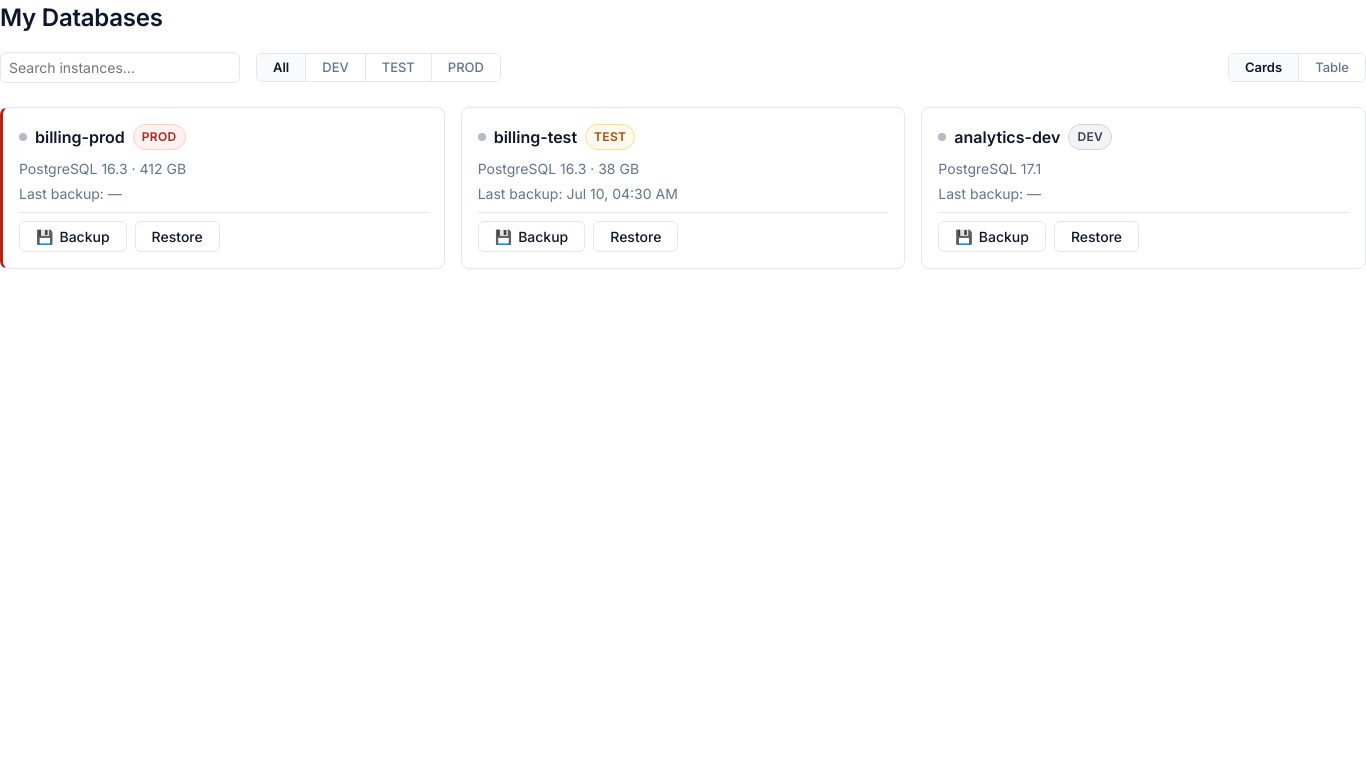
Test: drawer cancel closes without posting
Expected: the text "billing-test" is shown, [494,125,577,149]
Click the button "💾 Backup" below "Jul 10, 04:30 AM". click: coordinates (532, 236)
box: [478,221,585,252]
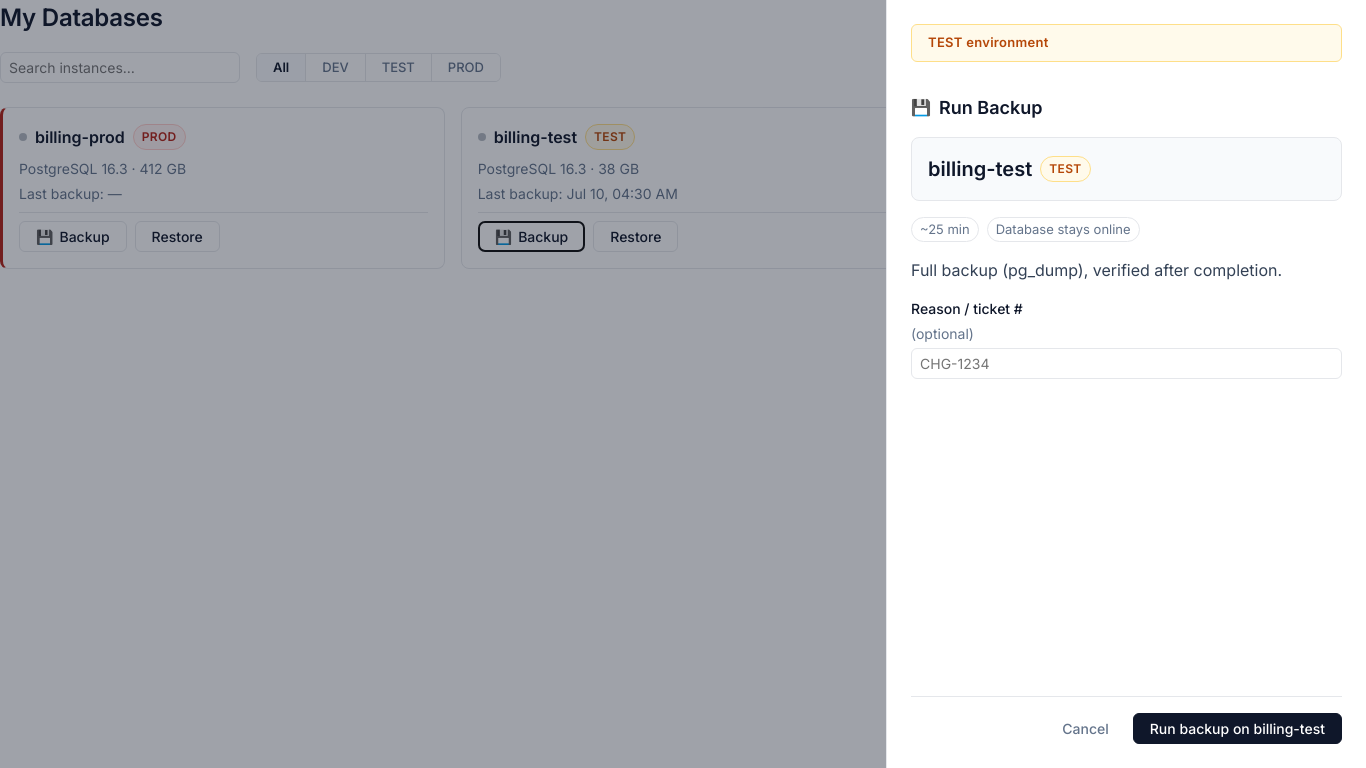
Click the button "Cancel". click: coordinates (1086, 728)
box: [1046,713,1125,744]
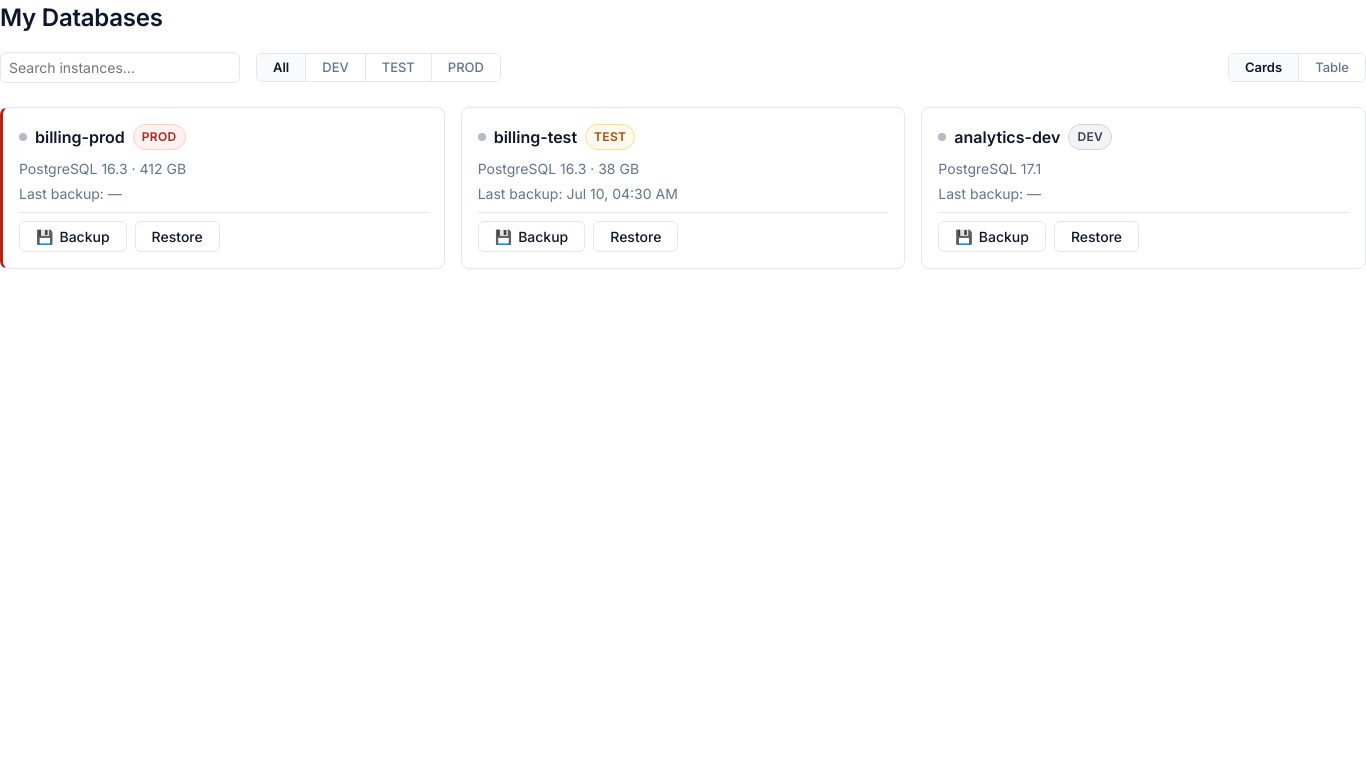
Expected: the dialog is gone
